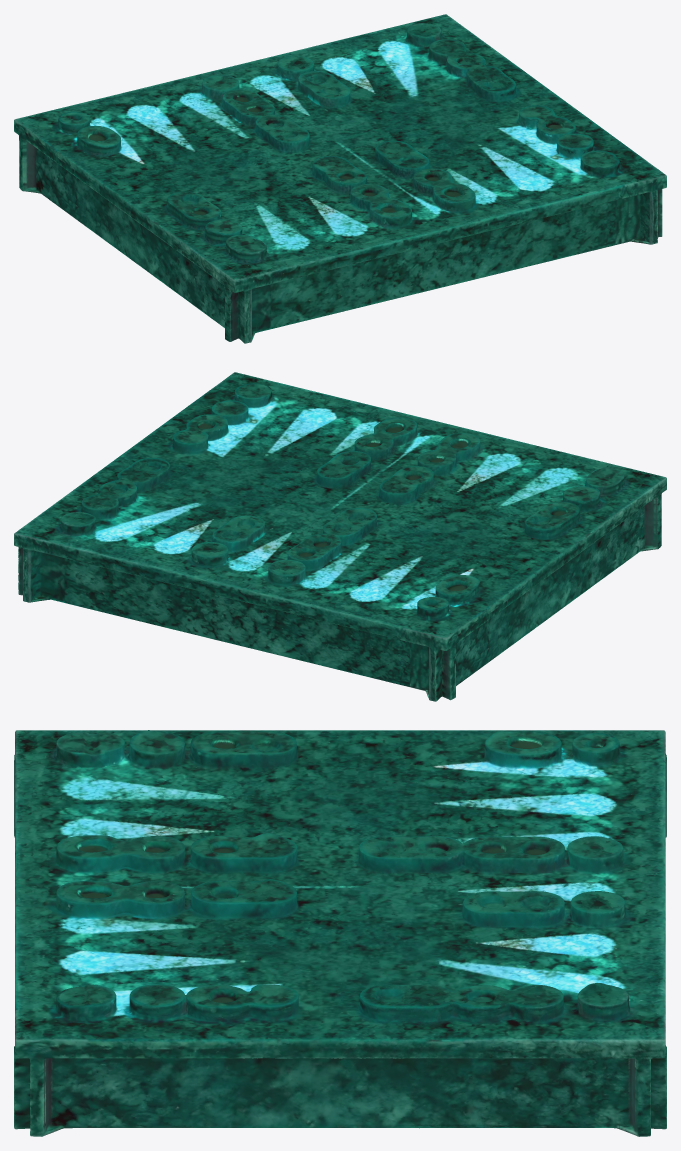
Rendered from backgammon.glb.
3 views of the same model, one above another, from view 1: azimuth 30°, elevation 25°; view 2: azimuth 150°, elevation 25°; view 3: azimuth 270°, elevation 25° (orthographic). The views are drawn at different scales.
Parts seen in each view (by area): view 1: Mesh_0; view 2: Mesh_0; view 3: Mesh_0.
Part boxes in pixels (box(x1,y1,x2,y2)): Mesh_0: box(14, 14, 666, 343); Mesh_0: box(14, 372, 666, 701); Mesh_0: box(14, 730, 666, 1136).
Bounding box in the file's own units: 2.37 × 0.4 × 2.1.
1 material, 1 textured.
